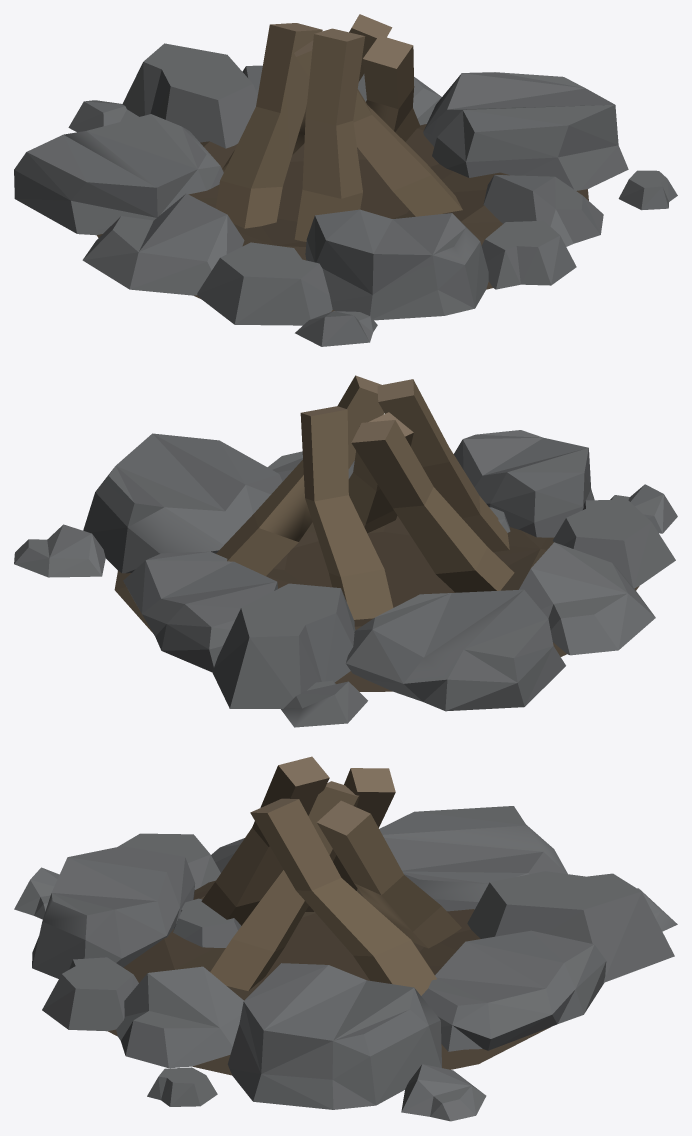
3 renders of one model, top to bottom at view 1: azimuth 30°, elevation 25°; view 2: azimuth 150°, elevation 25°; view 3: azimuth 270°, elevation 25°, orthographic. The views are drawn at different scales.
Parts seen in each view (by area): view 1: SM_Prop_CampFire_01.001MeshLOD0; view 2: SM_Prop_CampFire_01.001MeshLOD0; view 3: SM_Prop_CampFire_01.001MeshLOD0.
Boxes of the visible parts, x1=… form: SM_Prop_CampFire_01.001MeshLOD0: x1=14, y1=14, x2=677, y2=346; SM_Prop_CampFire_01.001MeshLOD0: x1=14, y1=375, x2=677, y2=727; SM_Prop_CampFire_01.001MeshLOD0: x1=14, y1=756, x2=677, y2=1121.
Size of what is drawn, in the model's own units: 1.53 by 0.5995 by 1.53.
1 material, 1 textured.
